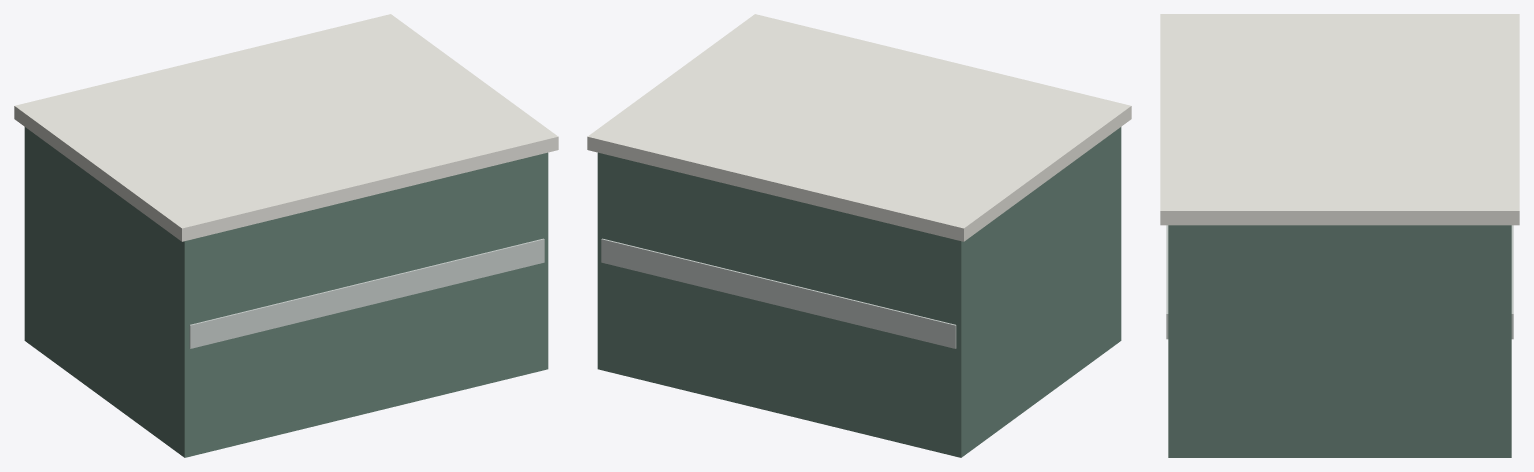
The model's file is s7-f-t03-service-crate.glb.
3 renders of one model, left to right at view 1: azimuth 30°, elevation 25°; view 2: azimuth 150°, elevation 25°; view 3: azimuth 270°, elevation 25°, orthographic. The views are drawn at different scales.
Parts seen in each view (by area): view 1: heavyequipmentbox_001, lid_002, protectiveband_004; view 2: heavyequipmentbox_001, lid_002, protectiveband_003; view 3: heavyequipmentbox_001, lid_002.
Part boxes in pixels (x1,y1,x2,y2): heavyequipmentbox_001: (24,127,548,457); lid_002: (14,14,558,241); protectiveband_004: (189,238,544,348); heavyequipmentbox_001: (597,127,1121,457); lid_002: (587,14,1131,241); protectiveband_003: (601,238,956,348); heavyequipmentbox_001: (1168,225,1511,457); lid_002: (1160,14,1519,225).
Bounding box in the file's own units: 1.18 × 0.7 × 0.91.
